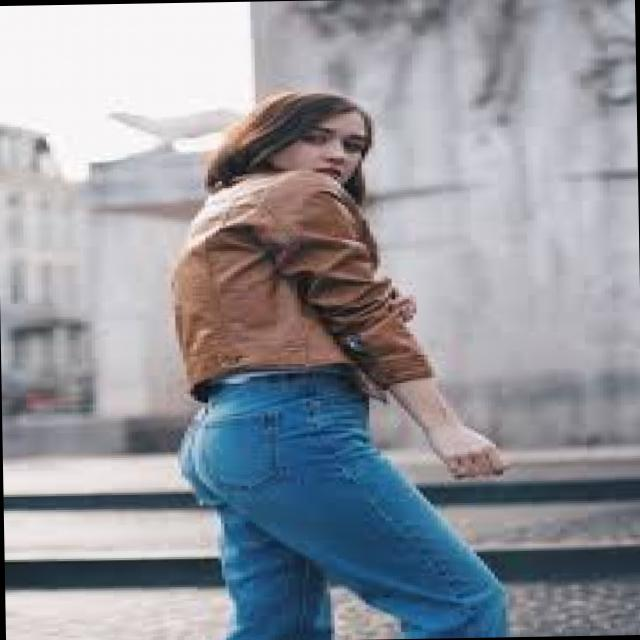Jacket: (139, 166, 443, 412)
